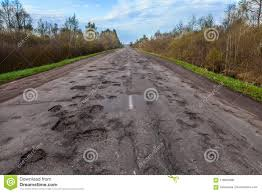pothole: (50, 103, 110, 144)
